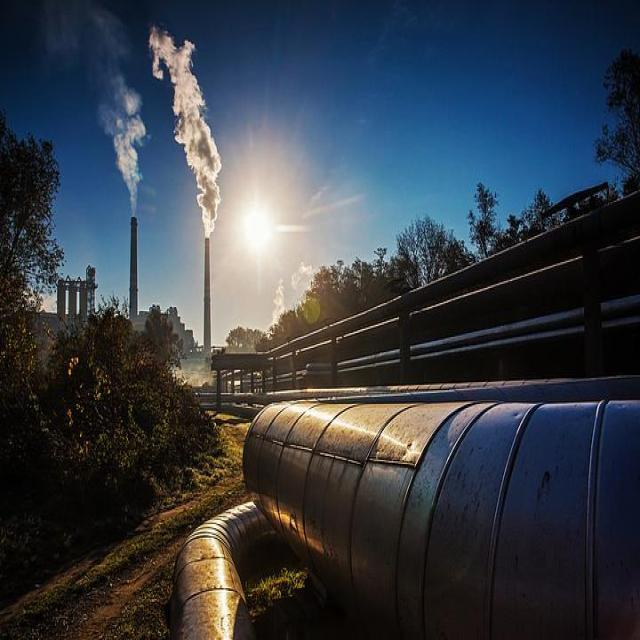Smoke: (147, 23, 220, 239), (100, 56, 144, 219)
